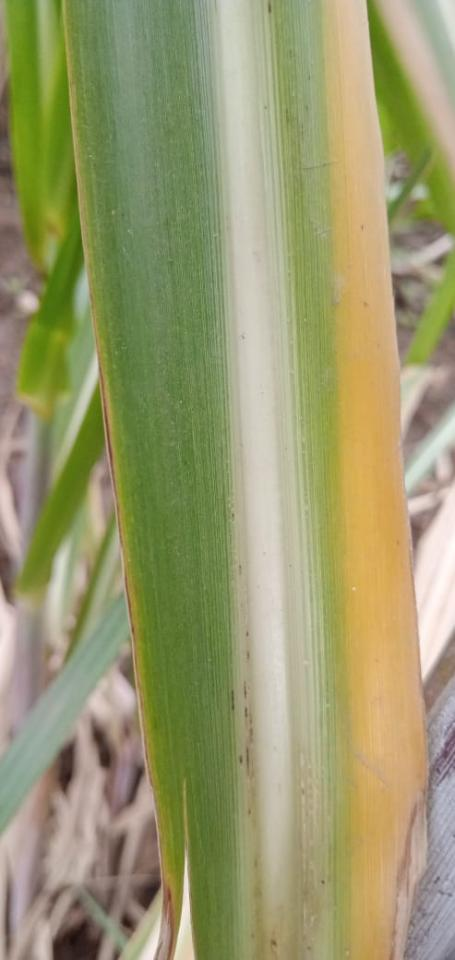Rust: (246, 745, 251, 777), (230, 688, 236, 712), (243, 679, 248, 701), (266, 1, 273, 15), (245, 647, 252, 661), (244, 628, 250, 639), (244, 706, 249, 719), (239, 755, 243, 765)
Yellow: (324, 0, 428, 959), (97, 350, 178, 959)
